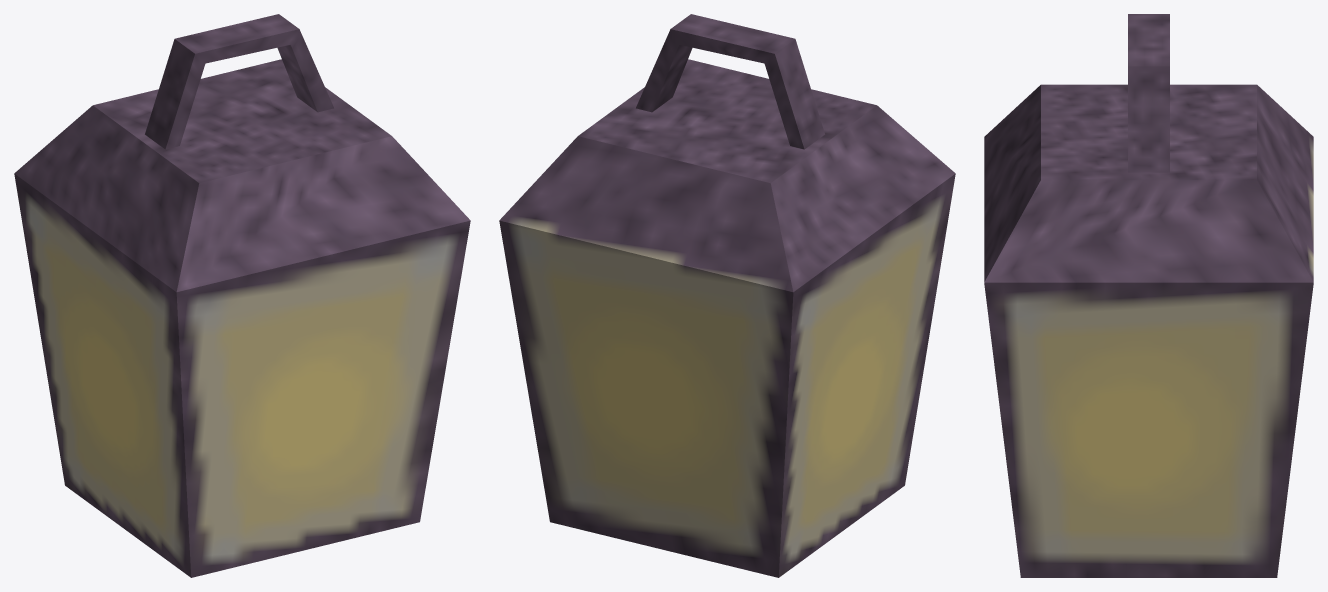
File: lanterne.fbx
The picture shows the model from 3 angles, left to right: view 1: azimuth 30°, elevation 25°; view 2: azimuth 150°, elevation 25°; view 3: azimuth 270°, elevation 25°; orthographic projection.
Visible parts, largest first — view 1: lanterne; view 2: lanterne; view 3: lanterne.
Boxes of the visible parts, x1,y1,x2,y2 form: lanterne: (14, 14, 470, 577); lanterne: (499, 14, 955, 577); lanterne: (984, 14, 1313, 577).
Size of the model in its own units: 169 by 259 by 161.
1 material, 1 textured.
